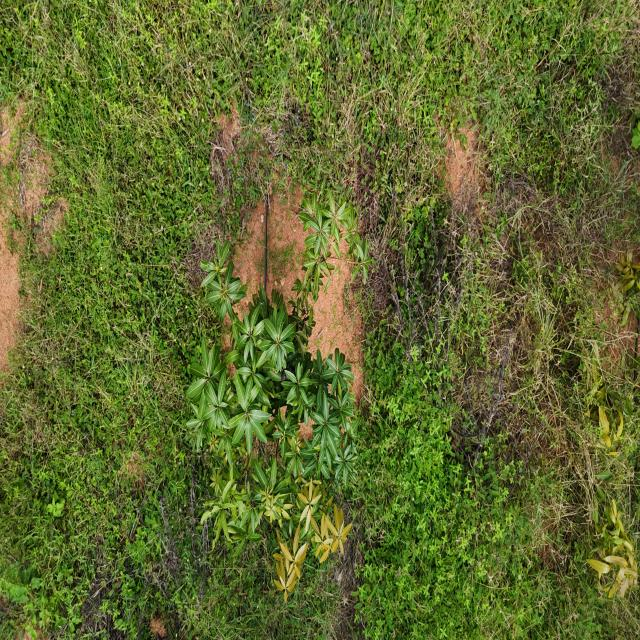mangoTree: (187, 177, 361, 608), (582, 473, 640, 602)
